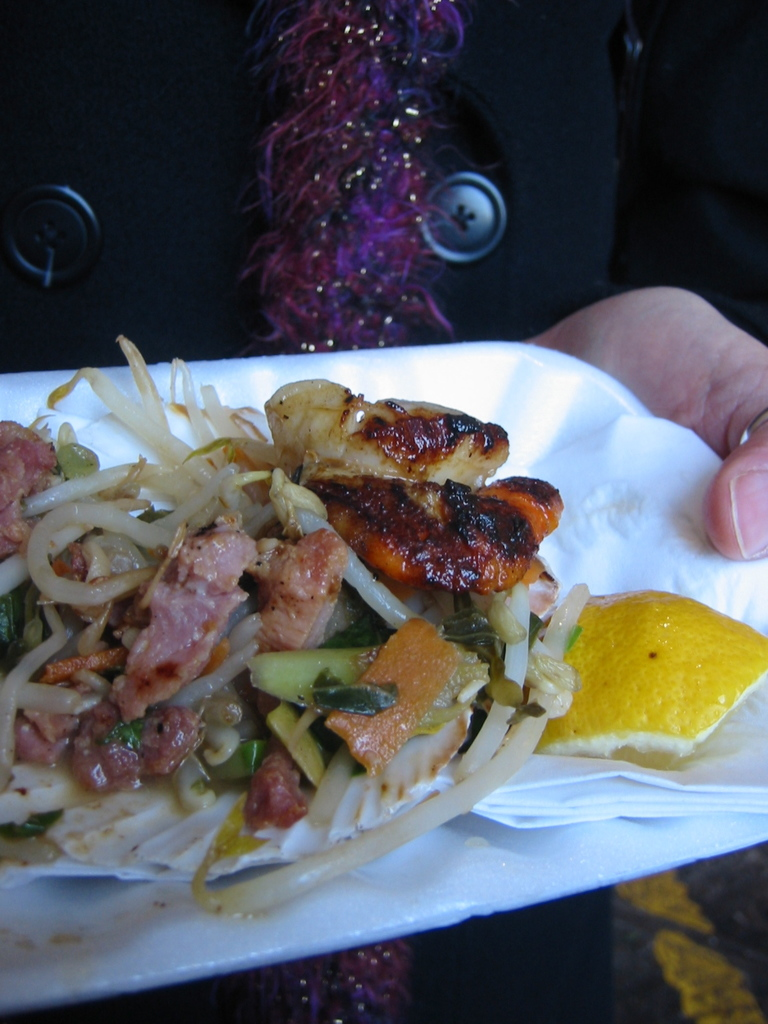taco: (10, 396, 563, 930)
